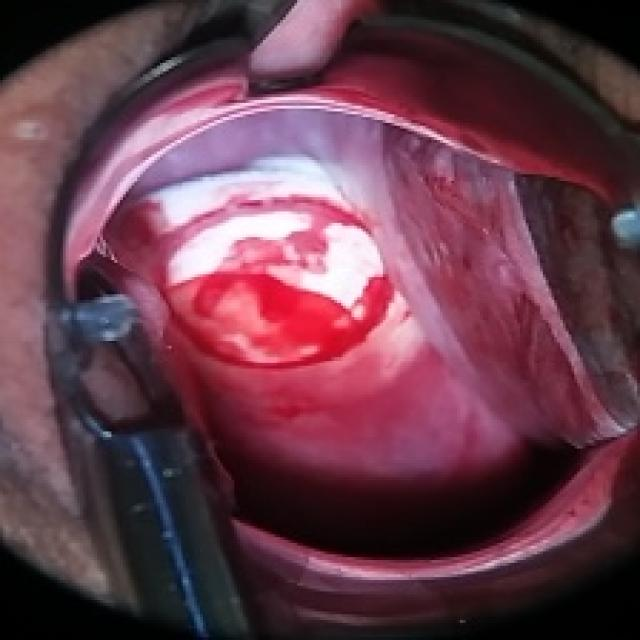type-2: (132, 112, 521, 540)
